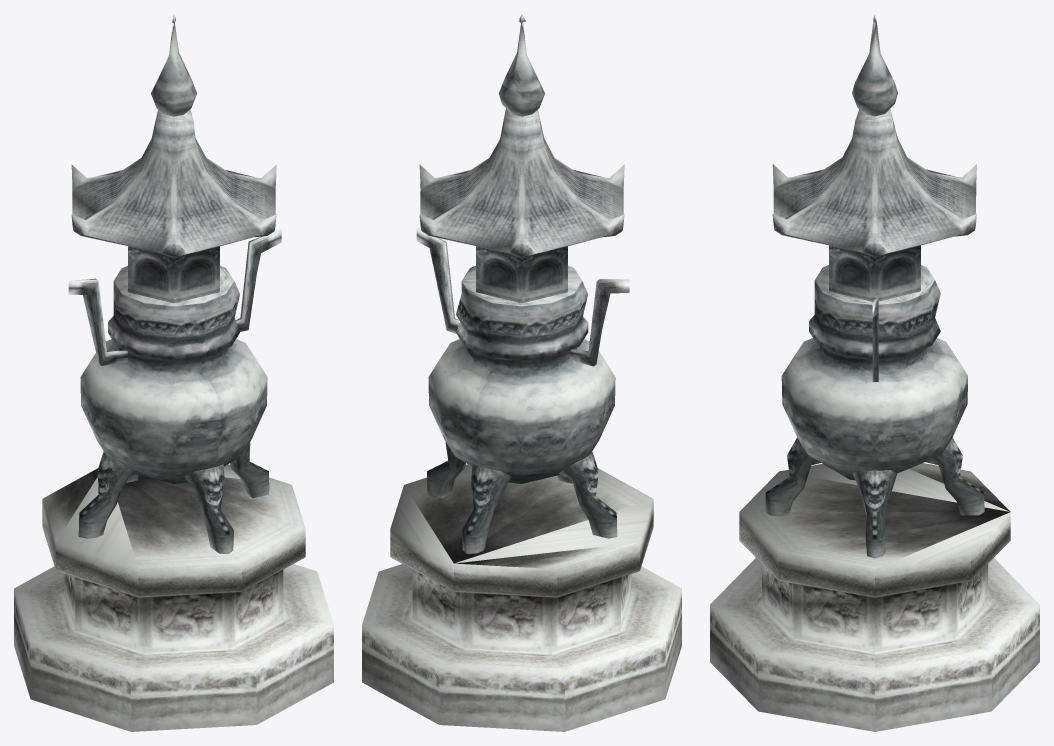
Rendered from snow_brazier-lod-01.fbx.
The picture shows the model from 3 angles, left to right: view 1: azimuth 30°, elevation 25°; view 2: azimuth 150°, elevation 25°; view 3: azimuth 270°, elevation 25°; orthographic projection.
Visible parts, largest first — view 1: snow_brazier_02, snow_brazier_01; view 2: snow_brazier_02, snow_brazier_01; view 3: snow_brazier_02, snow_brazier_01.
Boxes of the visible parts, bbox=[...] form: snow_brazier_02: bbox=[14, 14, 333, 731]; snow_brazier_01: bbox=[68, 229, 281, 483]; snow_brazier_02: bbox=[362, 14, 681, 731]; snow_brazier_01: bbox=[416, 227, 629, 483]; snow_brazier_02: bbox=[710, 14, 1039, 731]; snow_brazier_01: bbox=[781, 265, 967, 480].
Size of the model in its own units: 4.48 by 9.71 by 4.48.
